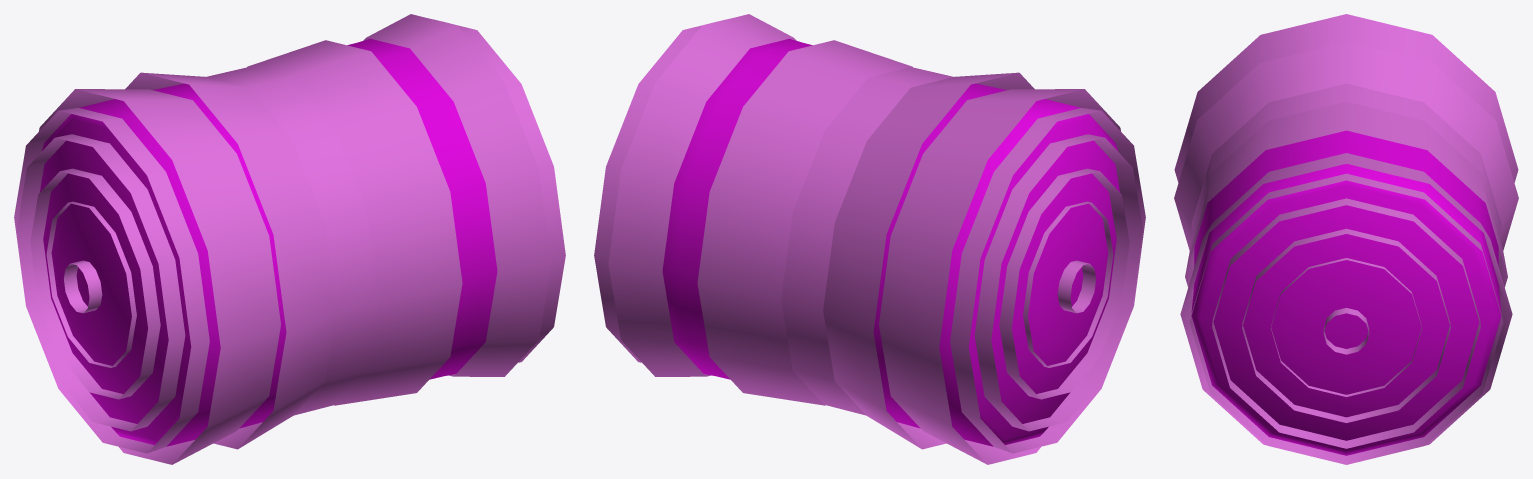
Rendered from F_Haystack001.fbx.
3 views of the same model, side by side, from view 1: azimuth 30°, elevation 25°; view 2: azimuth 150°, elevation 25°; view 3: azimuth 270°, elevation 25° (orthographic). The views are drawn at different scales.
Parts seen in each view (by area): view 1: Cylinder001; view 2: Cylinder001; view 3: Cylinder001.
Boxes of the visible parts, left/top/right/bottom form: Cylinder001: left=14, top=14, right=565, bottom=464; Cylinder001: left=594, top=14, right=1145, bottom=464; Cylinder001: left=1174, top=14, right=1518, bottom=464.
Bounding box in the file's own units: 123 × 97.46 × 97.46.
